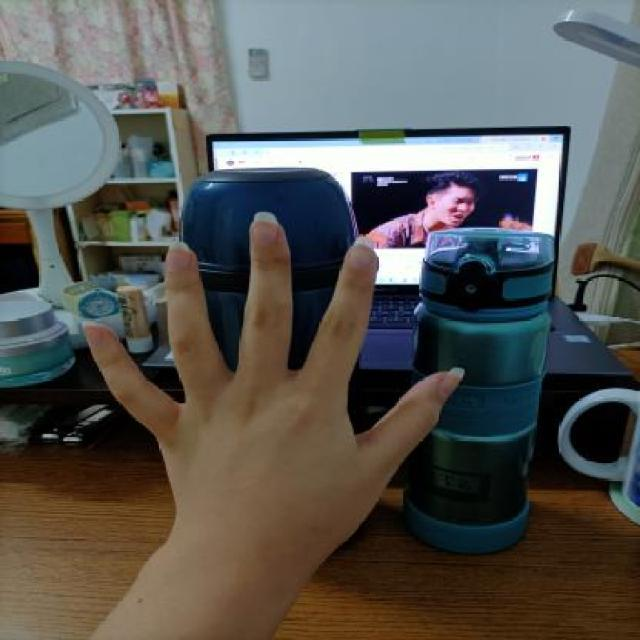bare_hand: (61, 192, 488, 591)
